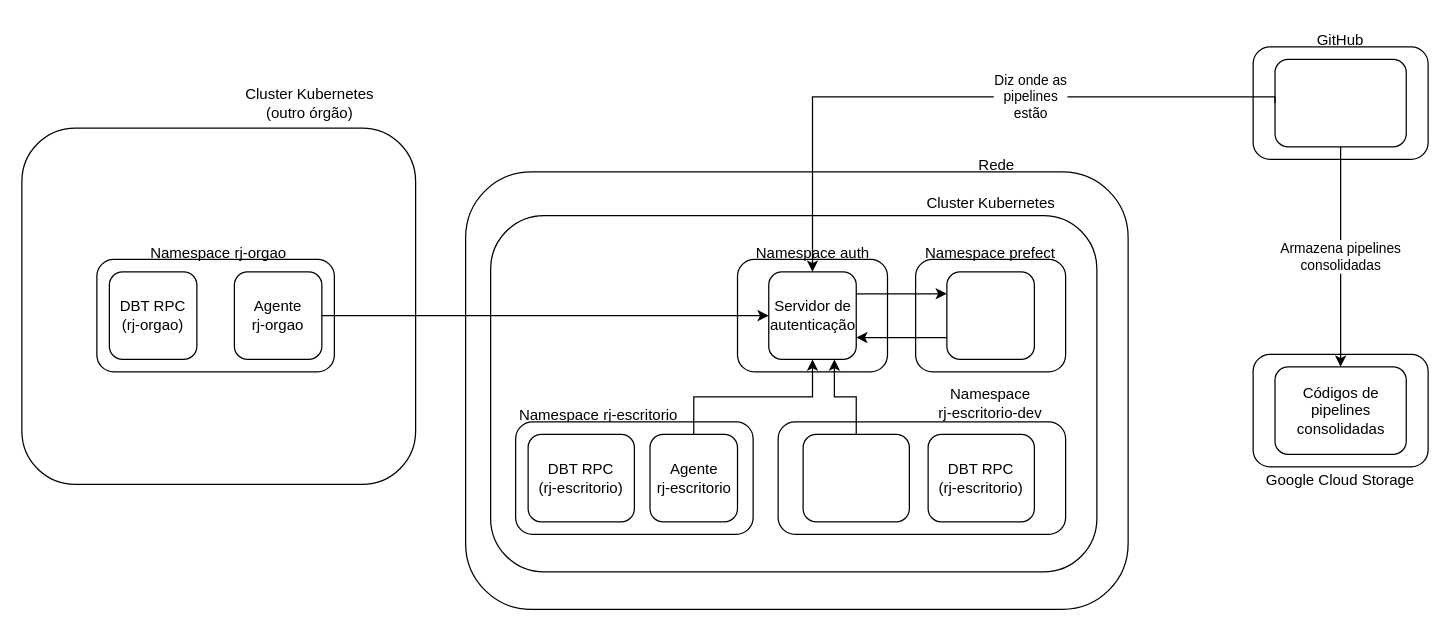
The diagram is 1450 pixels wide and 631 high, and some of its shapes have lost their labels. The shapes that lost their labels are listed below. From the top down, each one's box as (x1, y1, x2, y2) in pixels, then its label:
(1274, 58, 1406, 147): Desenvolvimento de pipelines
(946, 271, 1034, 359): Servidor do Prefect
(802, 433, 909, 522): Agente rj-escritorio-dev
